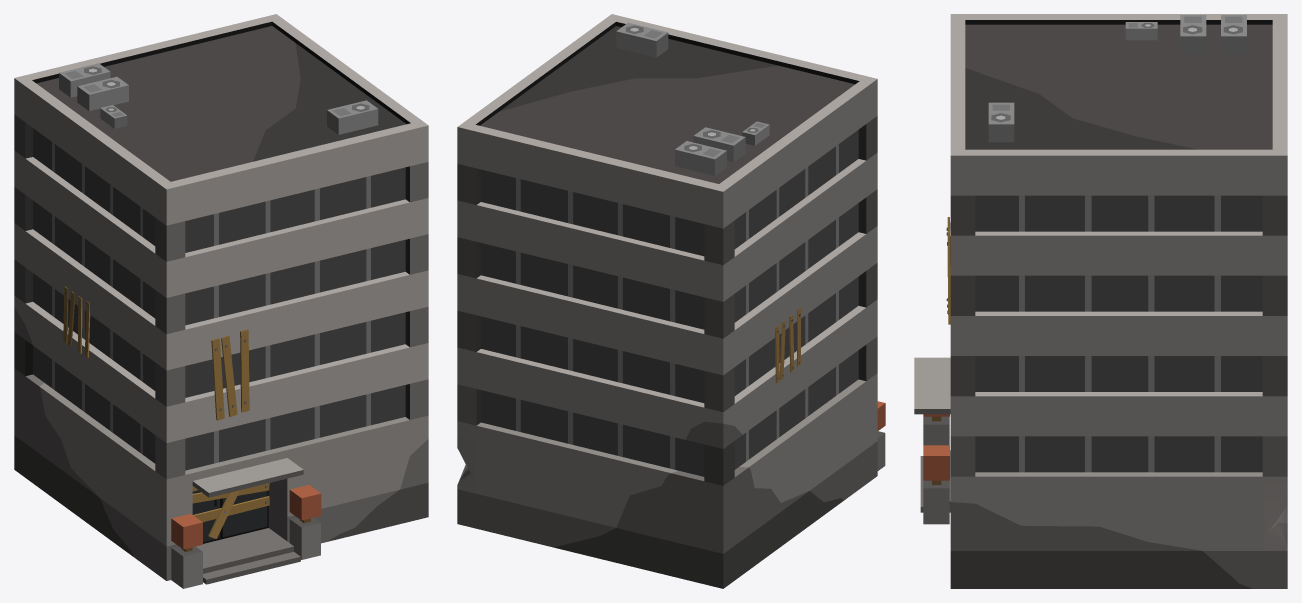
The model's file is SA_Bld_OfficeGrey_02.gltf.
3 views of the same model, side by side, from view 1: azimuth 30°, elevation 25°; view 2: azimuth 150°, elevation 25°; view 3: azimuth 270°, elevation 25° (orthographic). The views are drawn at different scales.
Parts seen in each view (by area): view 1: SA_Bld_OfficeGrey_02; view 2: SA_Bld_OfficeGrey_02; view 3: SA_Bld_OfficeGrey_02.
Part boxes in pixels (x1,y1,x2,y2): SA_Bld_OfficeGrey_02: (14, 14, 428, 588); SA_Bld_OfficeGrey_02: (457, 14, 885, 588); SA_Bld_OfficeGrey_02: (914, 14, 1287, 588).
Bounding box in the file's own units: 13.75 × 20.04 × 15.17.
Materials: 1 (1 with a texture image).
